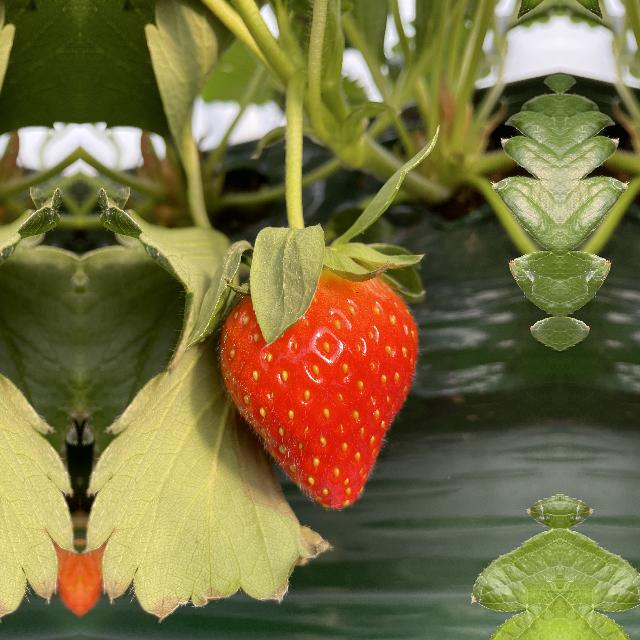Health_100: (213, 250, 425, 510)
